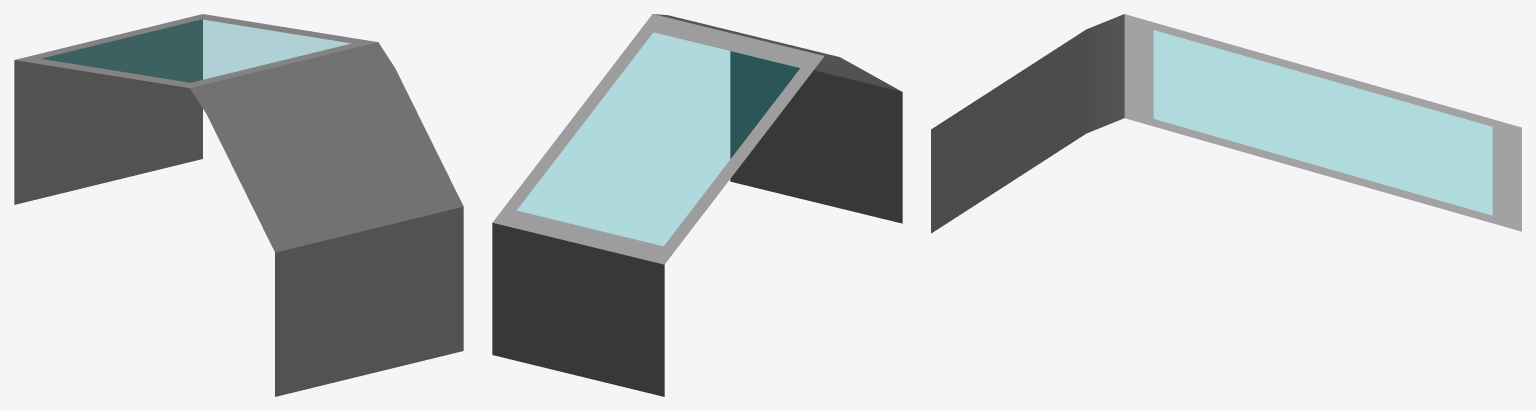
Rendered from library.fbx.
3 views of the same model, side by side, from view 1: azimuth 30°, elevation 25°; view 2: azimuth 150°, elevation 25°; view 3: azimuth 270°, elevation 25° (orthographic). The views are drawn at different scales.
Parts seen in each view (by area): view 1: pCube42; view 2: pCube42; view 3: pCube42.
Part boxes in pixels (x1,y1,x2,y2): pCube42: (14,14,463,396); pCube42: (492,14,902,396); pCube42: (931,14,1521,233).
Size of the model in its own units: 40.9 by 51.03 by 97.98.
